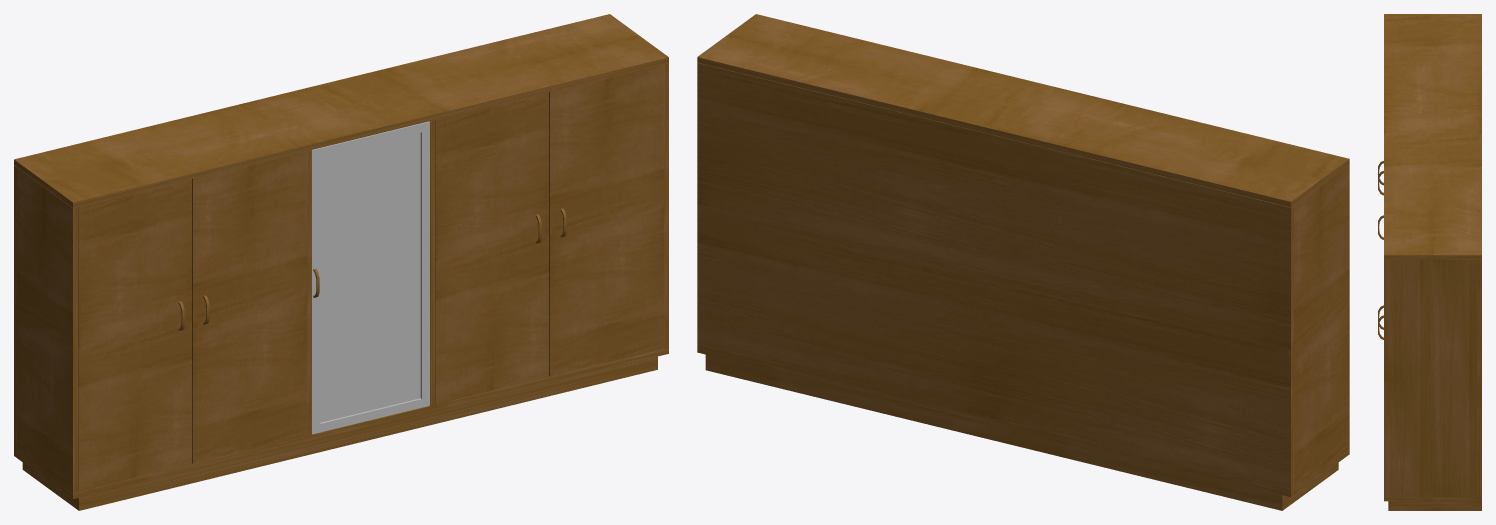
The model's file is sh_scopia_office_furniture1.glb.
The picture shows the model from 3 angles, left to right: view 1: azimuth 30°, elevation 25°; view 2: azimuth 150°, elevation 25°; view 3: azimuth 270°, elevation 25°; orthographic projection. The views are drawn at different scales.
Bounding box in the file's own units: 2.99 × 1.5 × 0.545.
Materials: 4 (2 with a texture image).
